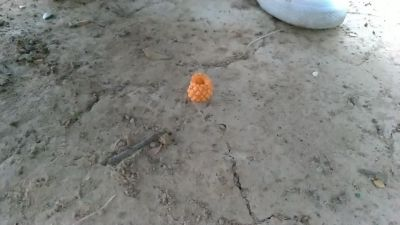eggs: (188, 72, 214, 104)
